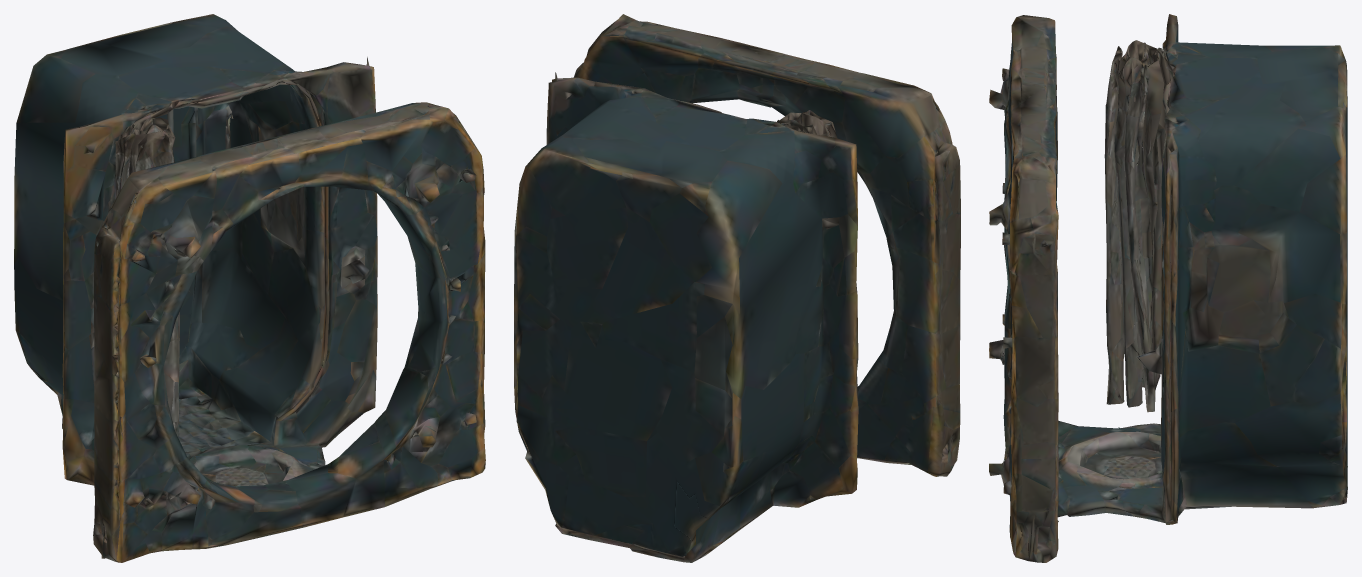
Rendered from shower_pod.glb.
3 renders of one model, left to right at view 1: azimuth 30°, elevation 25°; view 2: azimuth 150°, elevation 25°; view 3: azimuth 270°, elevation 25°, orthographic. The views are drawn at different scales.
Size of the model in its own units: 1.9 by 1.85 by 1.55.
Materials: 1 (1 with a texture image).
